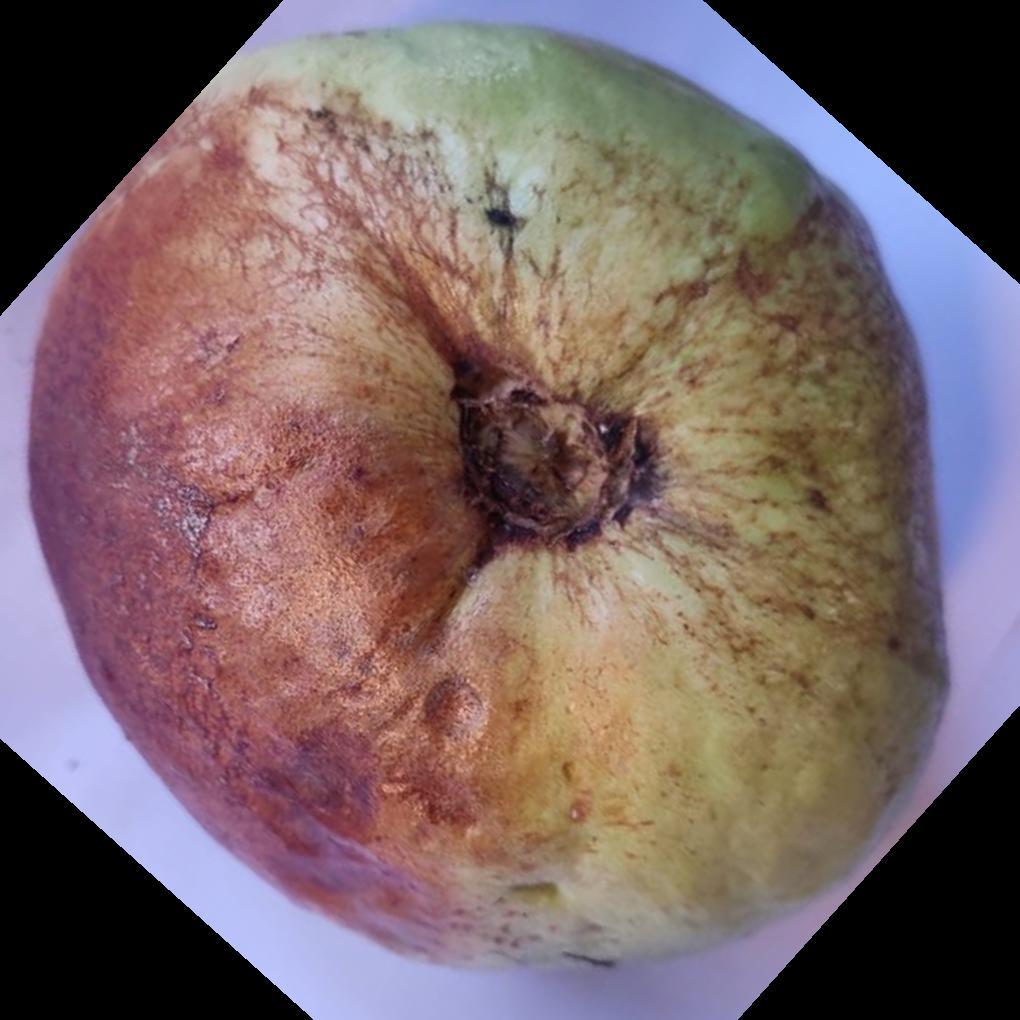FreshOrange: (19, 23, 952, 973)
